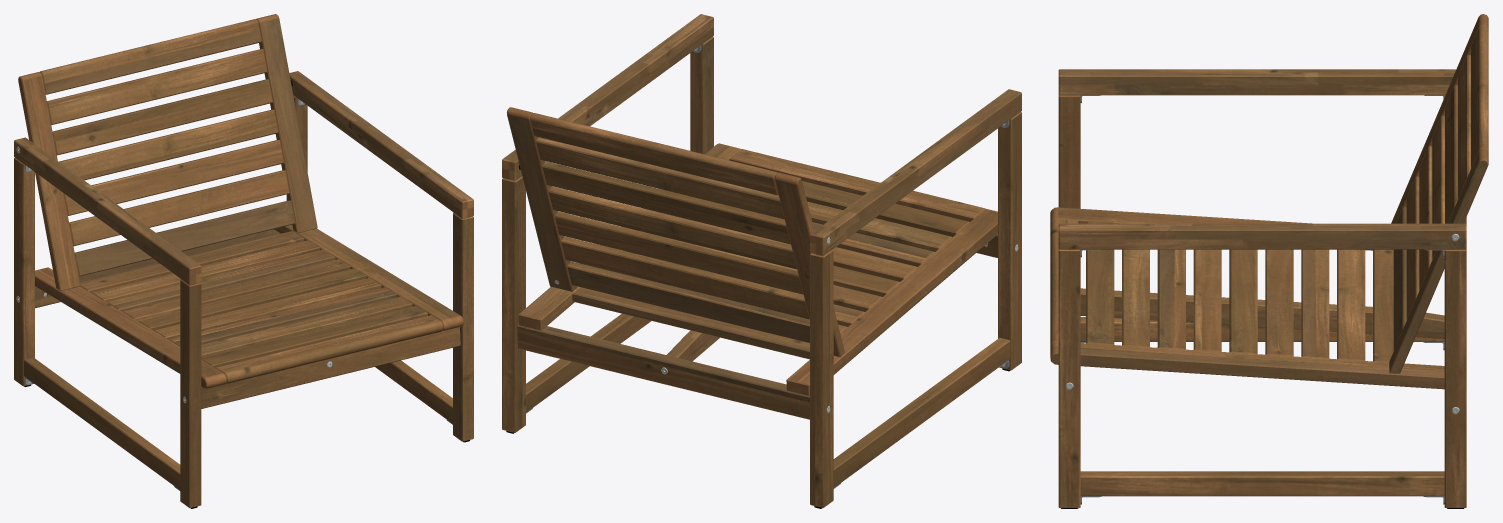
File: nammaro_lezak_ogrodowy_40510306.glb
3 renders of one model, left to right at view 1: azimuth 30°, elevation 25°; view 2: azimuth 150°, elevation 25°; view 3: azimuth 270°, elevation 25°, orthographic. The views are drawn at different scales.
Visible parts, largest first — view 1: nammaro_lezak_ogrodowy_40510306; view 2: nammaro_lezak_ogrodowy_40510306; view 3: nammaro_lezak_ogrodowy_40510306.
Boxes of the visible parts, x1,y1,x2,y2 form: nammaro_lezak_ogrodowy_40510306: (14, 14, 473, 508); nammaro_lezak_ogrodowy_40510306: (502, 14, 1021, 508); nammaro_lezak_ogrodowy_40510306: (1050, 14, 1488, 508).
Bounding box in the file's own units: 0.69 × 0.6859 × 0.7931.
1 material, 1 textured.
